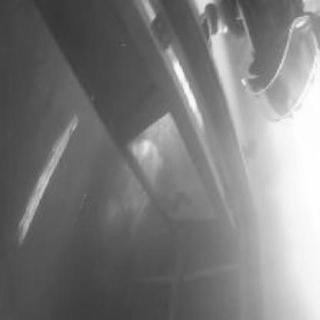Fire: (124, 130, 202, 201)
